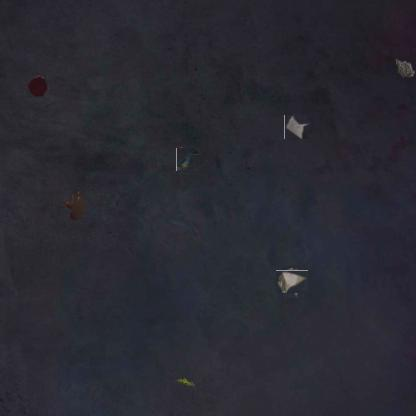dirty: (279, 268, 306, 296), (285, 115, 309, 140), (177, 147, 201, 172), (395, 58, 415, 78), (174, 377, 196, 387)
liquid: (60, 190, 86, 220), (27, 75, 49, 98)
